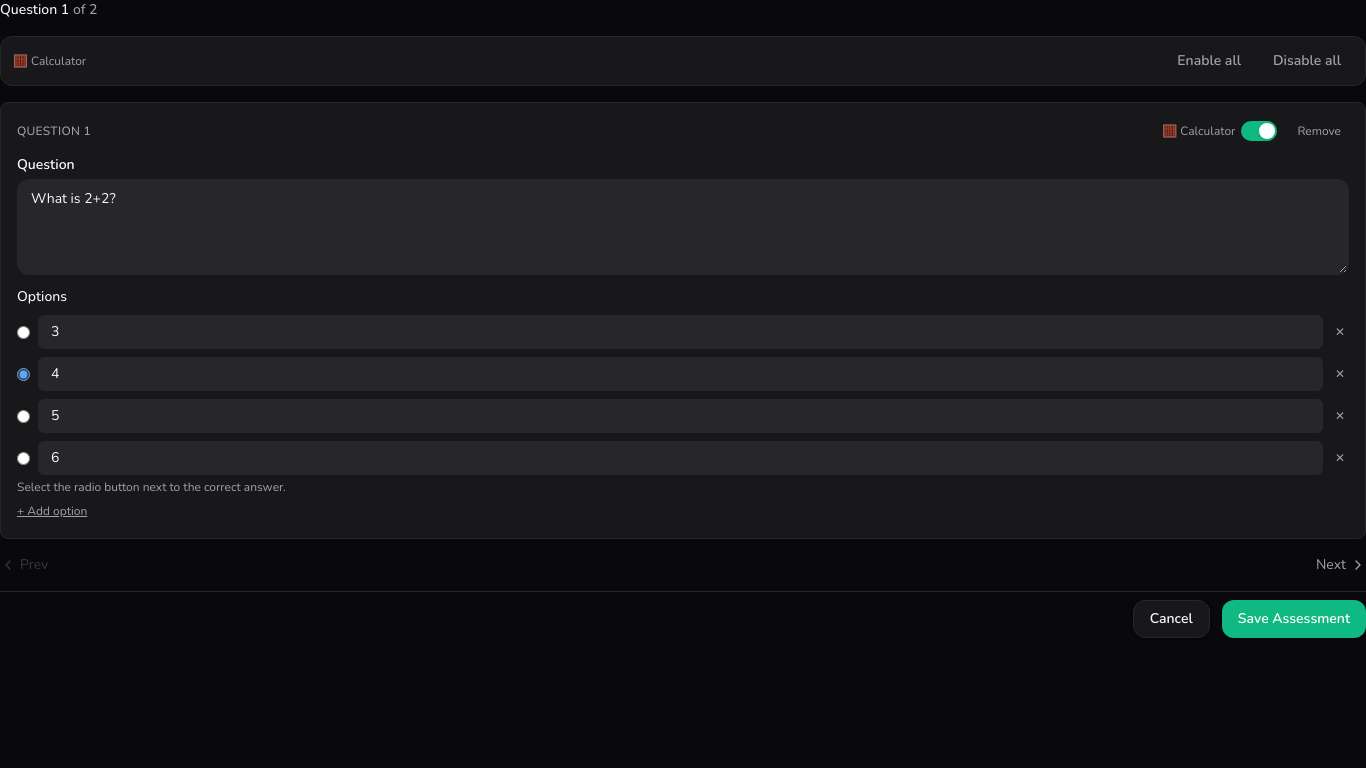
Scenario: AssessmentForm › shows bulk confirm dialog when mixed calculator state and Enable all clicked
Click the button with aria-label "Enable calculator for all questions": click(1209, 61) top-left (1165, 45), bottom-right (1253, 77)
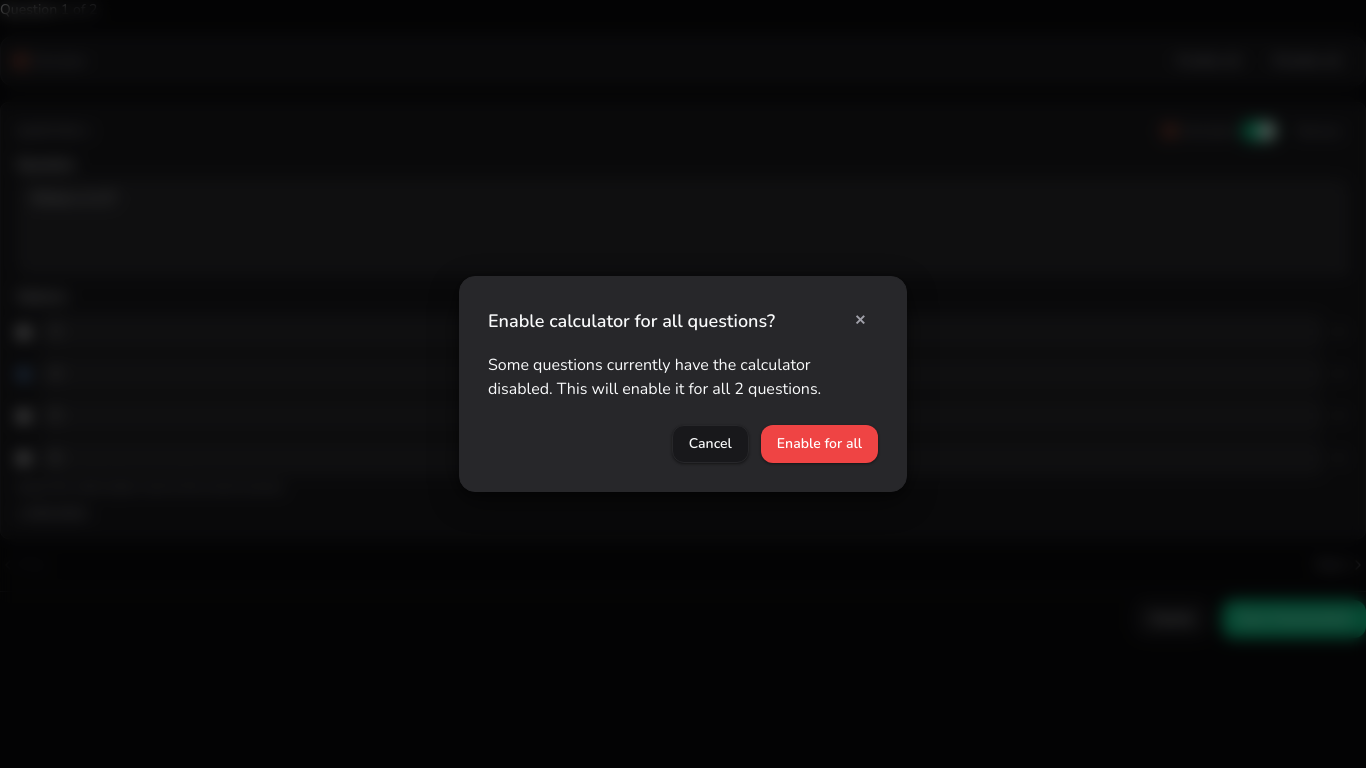
Expected: the heading "Enable calculator for all questions?" is shown, top-left (488, 307), bottom-right (775, 335)
